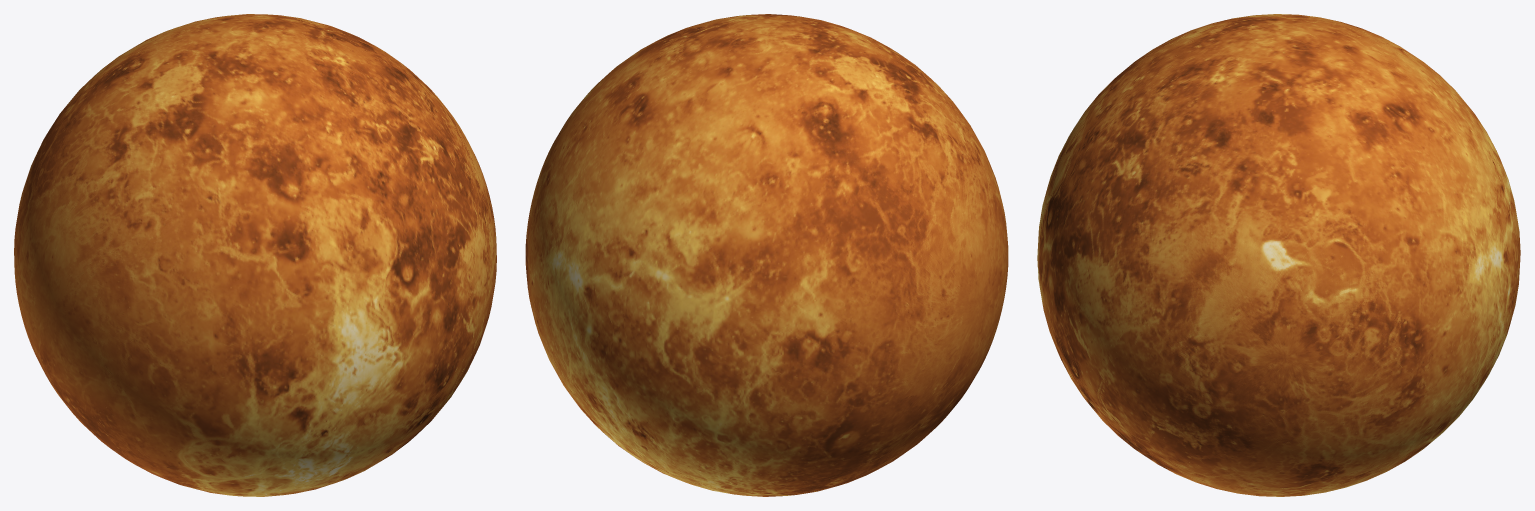
File: venus.gltf
3 renders of one model, left to right at view 1: azimuth 30°, elevation 25°; view 2: azimuth 150°, elevation 25°; view 3: azimuth 270°, elevation 25°, orthographic.
Visible parts, largest first — view 1: venus_5; view 2: venus_5; view 3: venus_5.
Boxes of the visible parts, left/top/right/bottom form: venus_5: left=14, top=14, right=496, bottom=496; venus_5: left=525, top=14, right=1008, bottom=496; venus_5: left=1037, top=14, right=1520, bottom=496.
Bounding box in the file's own units: 2.49 × 2.49 × 2.49.
1 material, 1 textured.
